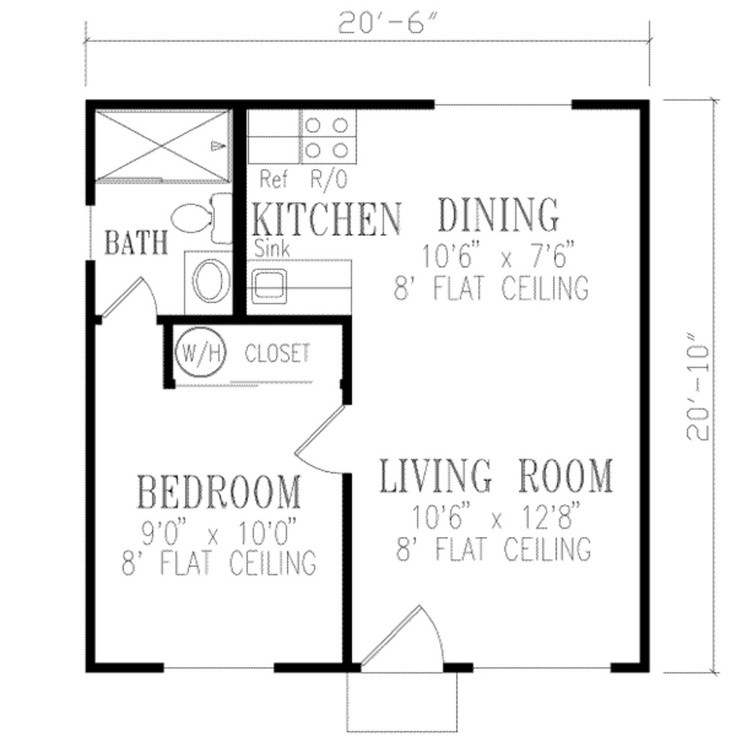door: (371, 602, 446, 670), (294, 403, 353, 477), (106, 273, 157, 318)
room: (343, 319, 650, 674), (88, 320, 349, 675), (401, 96, 652, 325), (232, 99, 398, 320), (86, 180, 237, 320)
wall: (637, 95, 654, 672), (79, 262, 99, 671), (83, 97, 439, 112), (231, 98, 247, 313), (155, 313, 355, 329), (82, 99, 103, 203), (569, 96, 651, 113), (86, 659, 161, 675), (279, 658, 363, 672), (343, 315, 353, 406)
window: (473, 660, 614, 677), (436, 100, 571, 114), (164, 660, 278, 671), (87, 203, 98, 256)
